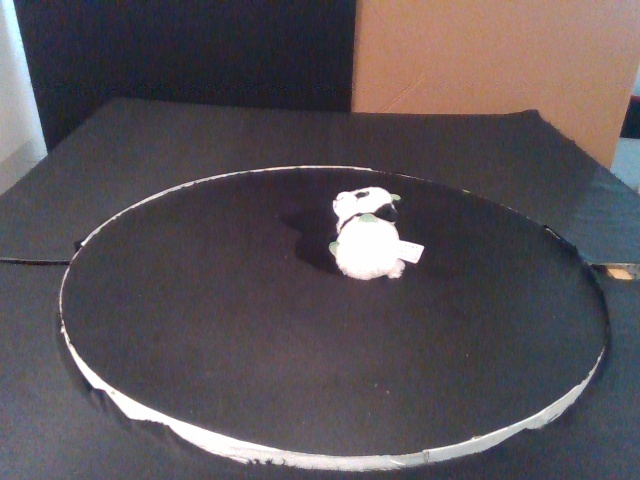teddy_bear: (329, 186, 424, 282)
